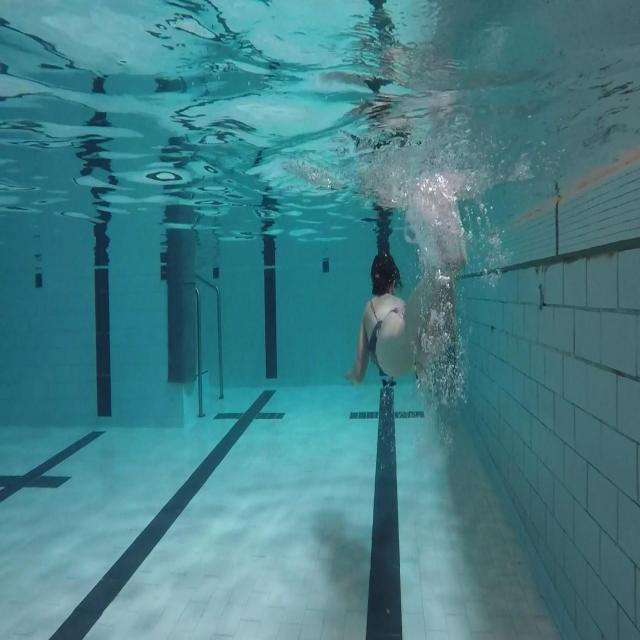human: (344, 250, 455, 388)
